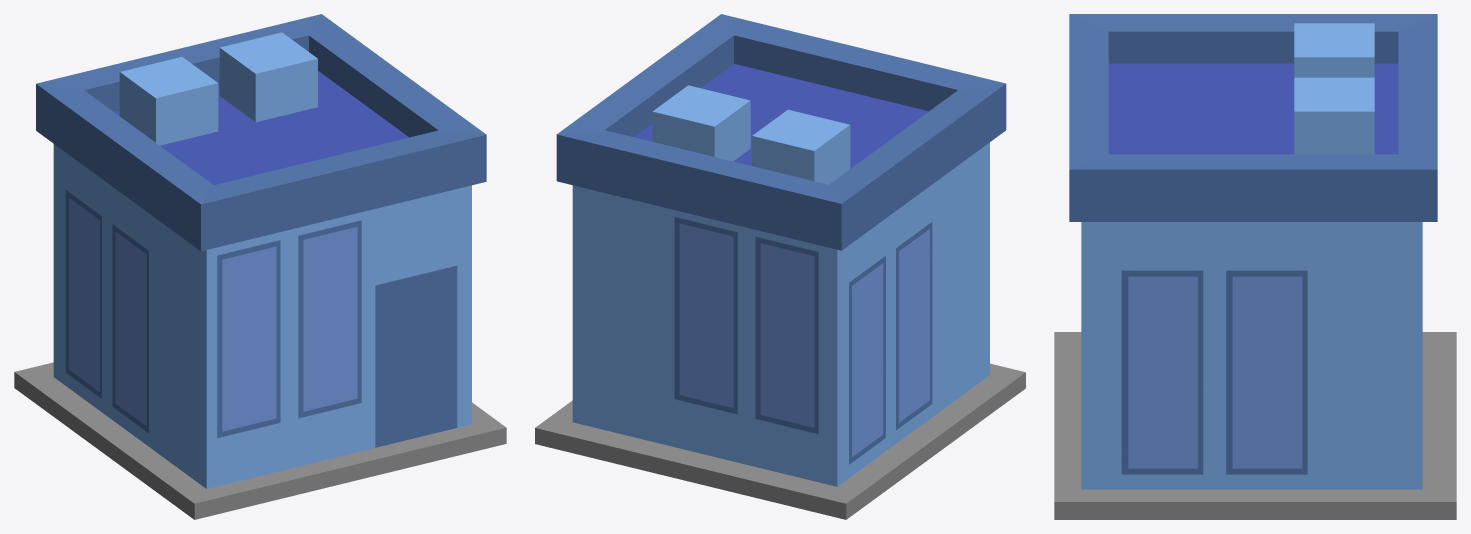
The model's file is Mini_house_2.FBX.
3 renders of one model, left to right at view 1: azimuth 30°, elevation 25°; view 2: azimuth 150°, elevation 25°; view 3: azimuth 270°, elevation 25°, orthographic. The views are drawn at different scales.
Parts seen in each view (by area): view 1: Box007, Box002; view 2: Box007, Box002; view 3: Box007, Box002.
Part boxes in pixels (x1,y1,x2,y2): Box007: (36,14,486,488); Box002: (14,362,506,519); Box007: (556,14,1006,486); Box002: (535,363,1025,519); Box007: (1069,14,1437,489); Box002: (1054,332,1456,519).
Size of the model in its own units: 1 by 0.9993 by 1.
5 materials, 4 textured.
